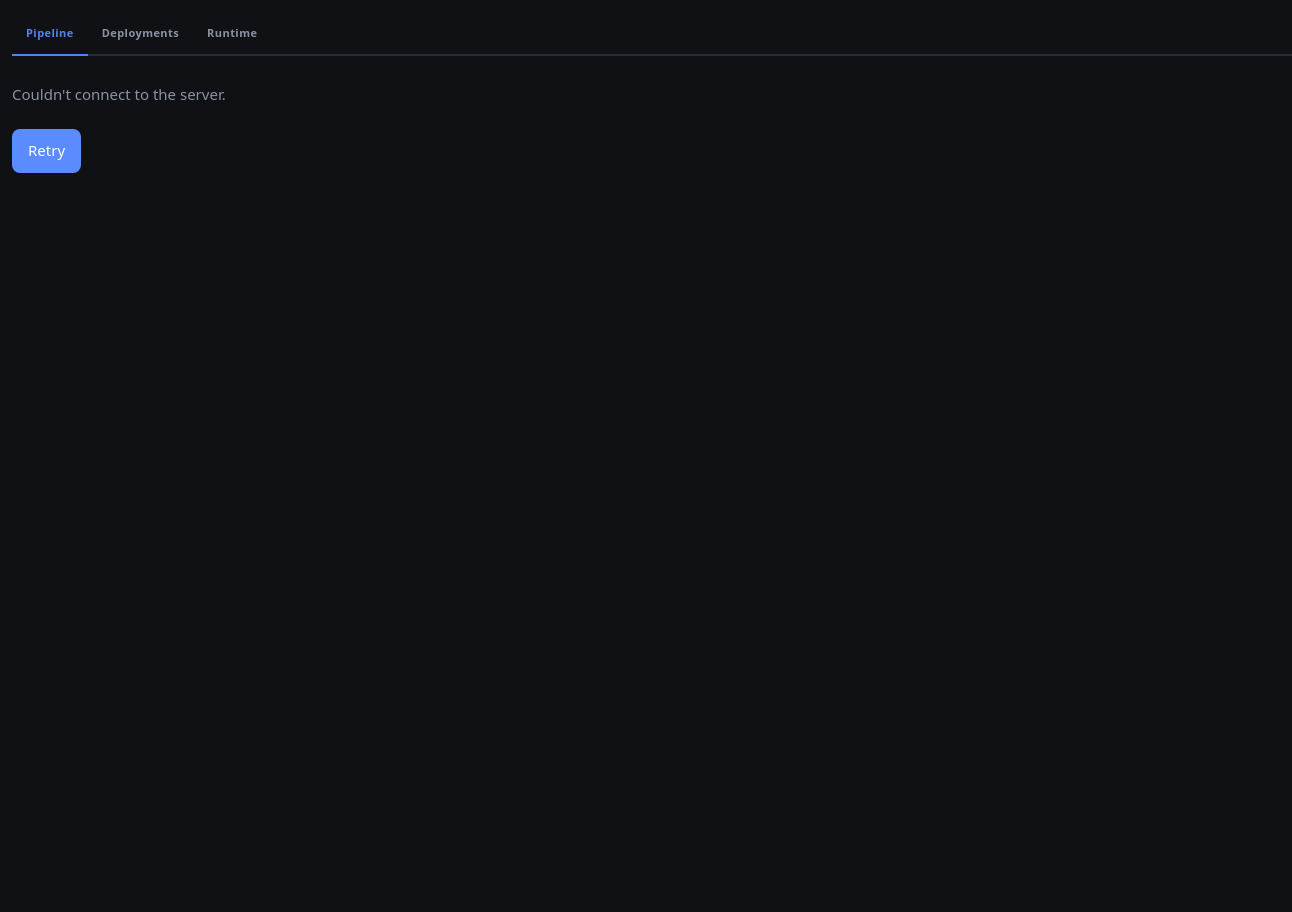
it: AdminCommandCenter resilient fetching › shows a Retry button instead of an eternal spinner on connection failure
The width and height of the screenshot is (1292, 912).
Click the button "Retry": click(47, 150) [12,128,81,172]
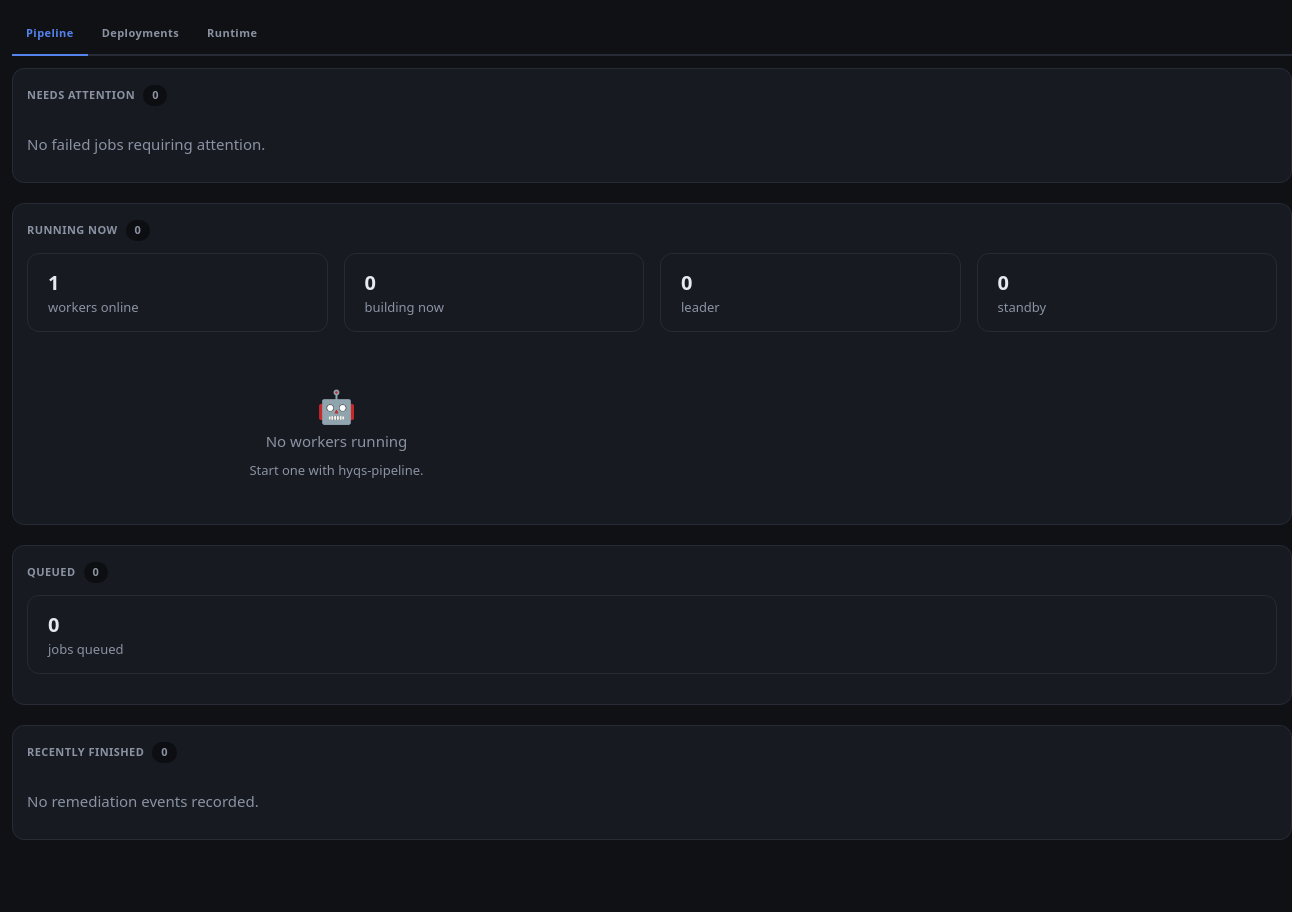
Expected: the text "workers online" is shown, [48,298,139,316]
